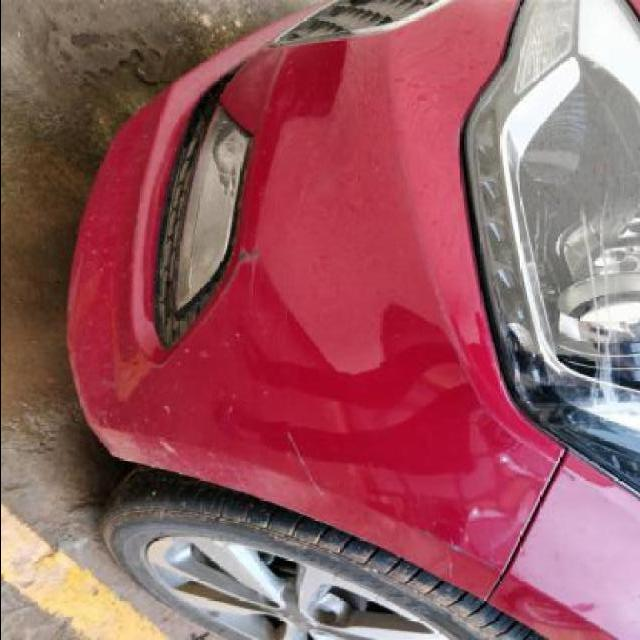front-bumper-dent: (73, 42, 564, 595)
